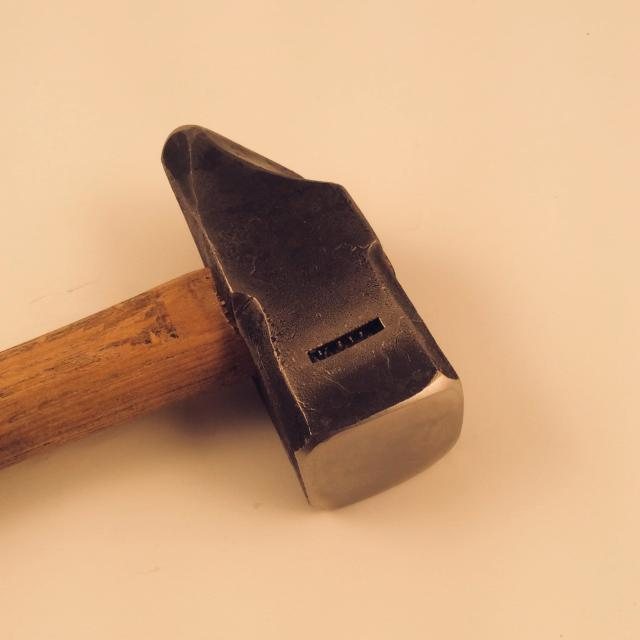hammer: (0, 118, 471, 516)
